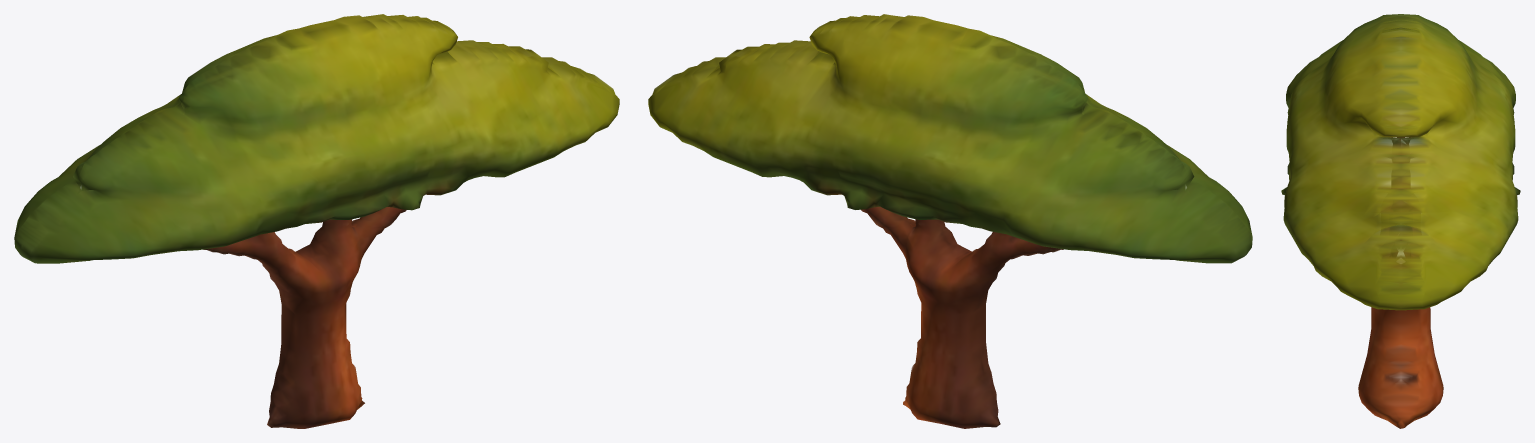
The model's file is 02_acacia_trees_r02_c02.glb.
3 views of the same model, side by side, from view 1: azimuth 30°, elevation 25°; view 2: azimuth 150°, elevation 25°; view 3: azimuth 270°, elevation 25° (orthographic). The views are drawn at different scales.
Parts seen in each view (by area): view 1: 02_acacia_trees_r02_c02; view 2: 02_acacia_trees_r02_c02; view 3: 02_acacia_trees_r02_c02.
Part boxes in pixels (x1,y1,x2,y2): 02_acacia_trees_r02_c02: (14, 14, 619, 428); 02_acacia_trees_r02_c02: (648, 14, 1252, 428); 02_acacia_trees_r02_c02: (1281, 14, 1520, 428).
Bounding box in the file's own units: 2.4 × 1.49 × 0.8827.
1 material, 1 textured.
